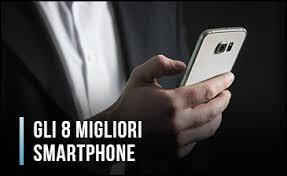Hand: (122, 54, 234, 158)
Smartphone: (179, 21, 243, 103)
